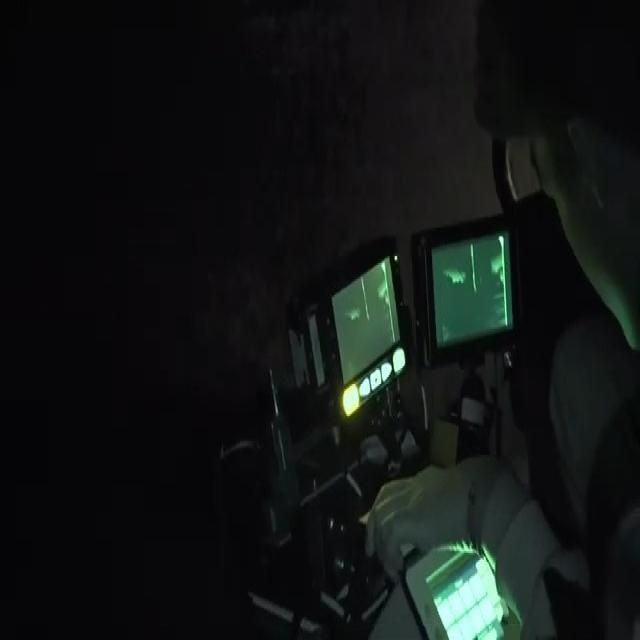device: (159, 176, 610, 474)
